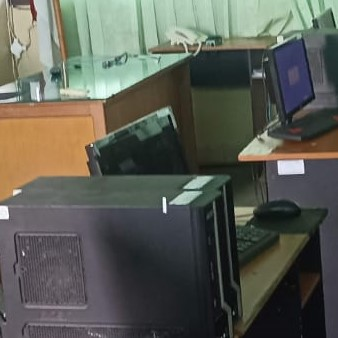monitor: (1, 173, 239, 333), (84, 105, 280, 270), (85, 106, 190, 177), (262, 34, 316, 128), (301, 28, 338, 111)
